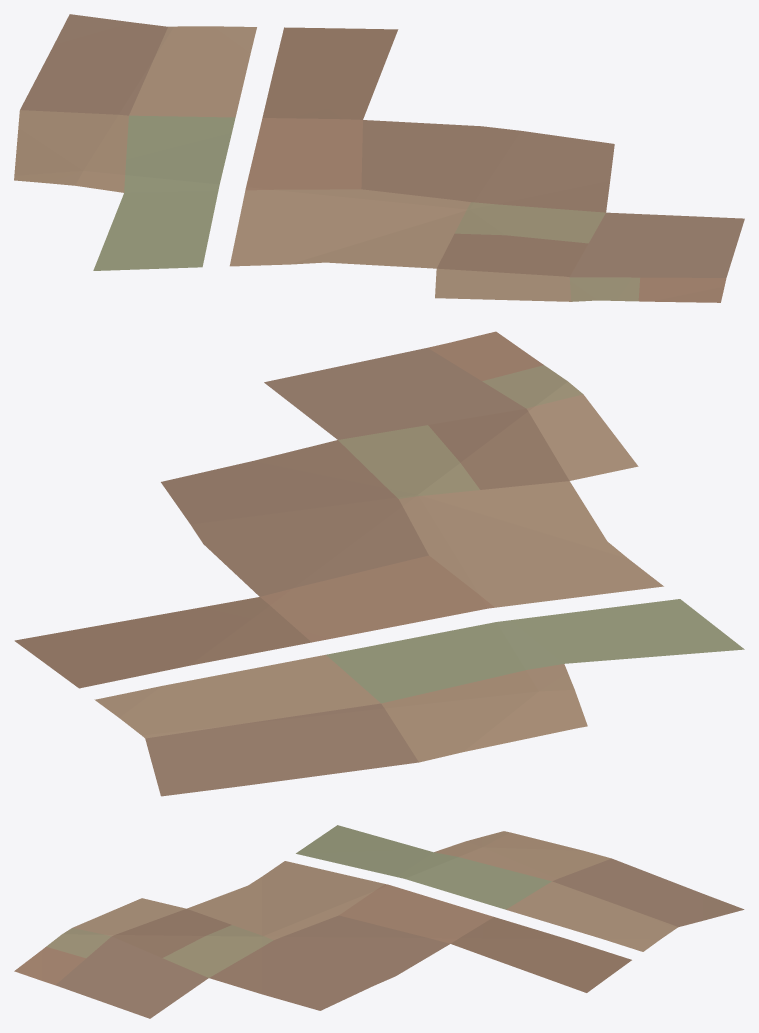
Rendered from farm_-9_-14_soil.glb.
3 renders of one model, top to bottom at view 1: azimuth 30°, elevation 25°; view 2: azimuth 150°, elevation 25°; view 3: azimuth 270°, elevation 25°, orthographic. The views are drawn at different scales.
Parts seen in each view (by area): view 1: geometry_0; view 2: geometry_0; view 3: geometry_0.
Part boxes in pixels (x1,y1,x2,y2): geometry_0: (14, 14, 744, 302); geometry_0: (14, 331, 744, 796); geometry_0: (14, 825, 744, 1018).
Bounding box in the file's own units: 174 × 6.21 × 265.
